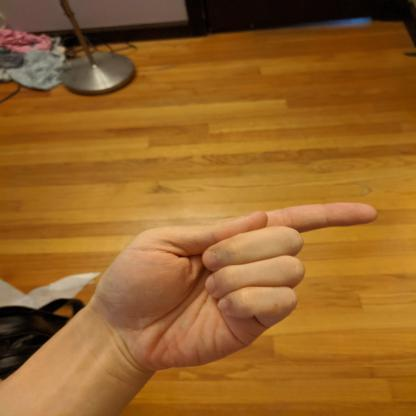G: (91, 197, 382, 374)
